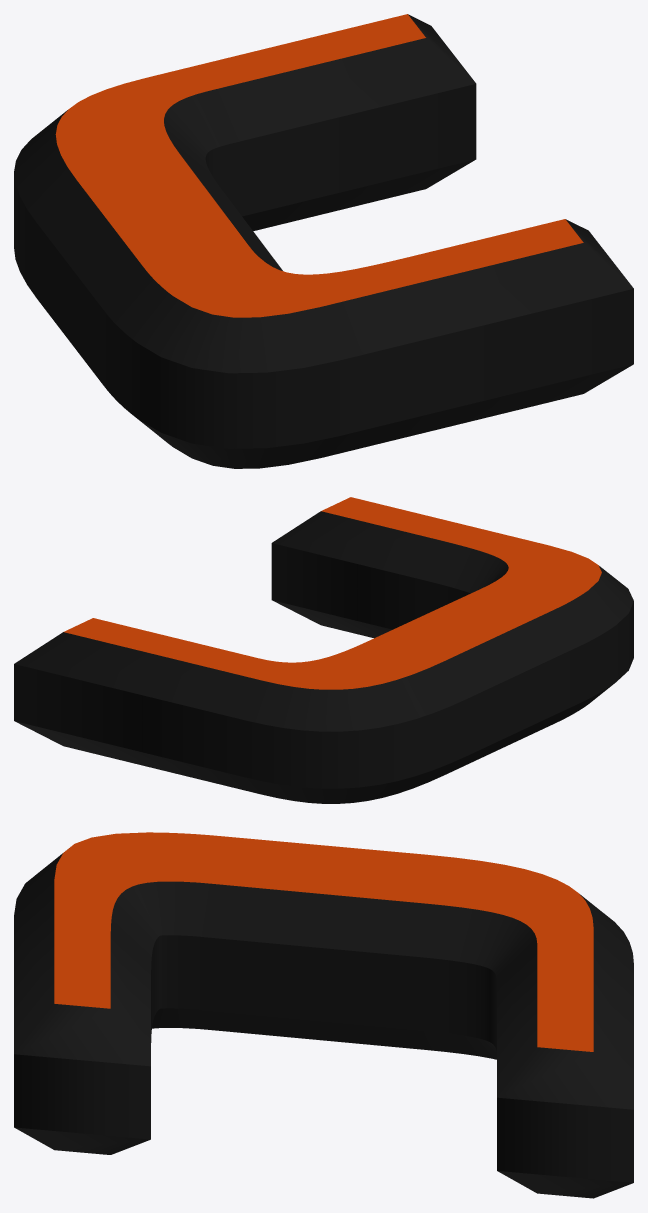
File: CMin.fbx
3 views of the same model, one above another, from view 1: azimuth 30°, elevation 25°; view 2: azimuth 150°, elevation 25°; view 3: azimuth 270°, elevation 25° (orthographic). The views are drawn at different scales.
Parts seen in each view (by area): view 1: Text; view 2: Text; view 3: Text.
Part boxes in pixels (x1,y1,x2,y2): Text: (14,14,633,468); Text: (14,497,633,803); Text: (14,832,633,1198).
Bounding box in the file's own units: 0.6043 × 0.16 × 0.6142.
